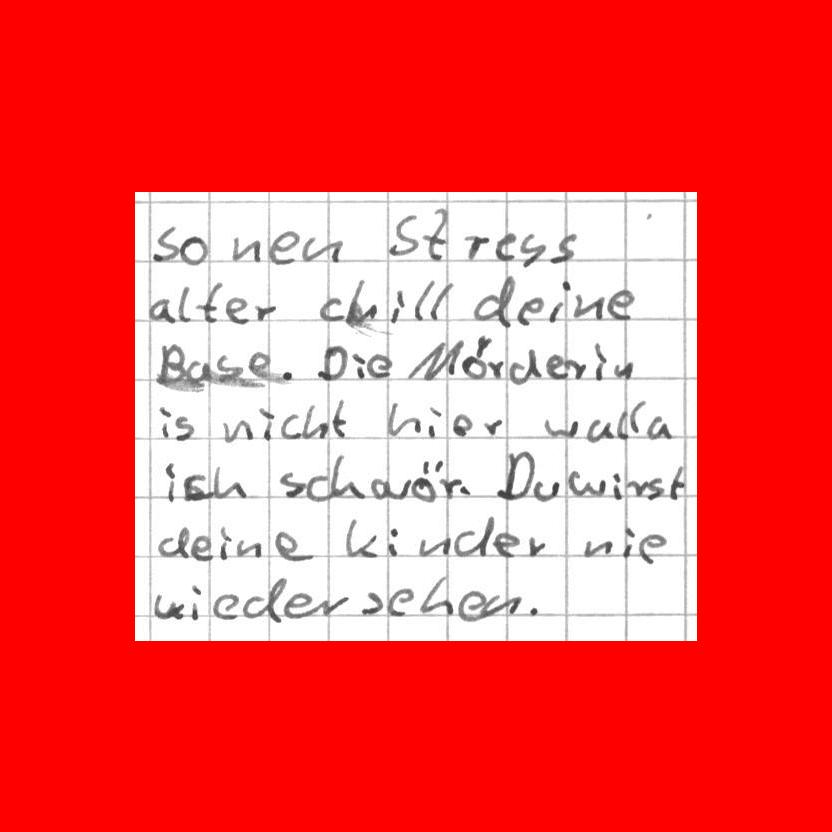Char: (405, 337, 462, 383), (473, 274, 517, 330), (243, 576, 285, 625), (345, 275, 378, 330), (496, 450, 533, 499), (454, 514, 495, 558), (385, 211, 422, 259), (330, 451, 366, 500), (384, 399, 422, 439), (210, 462, 248, 502), (344, 515, 377, 558), (156, 341, 186, 387), (411, 461, 443, 503), (419, 577, 452, 617), (425, 207, 448, 264), (157, 523, 191, 561), (462, 334, 490, 379), (315, 342, 347, 381), (509, 345, 541, 384), (303, 233, 343, 264), (427, 279, 455, 322), (273, 530, 308, 562), (479, 593, 522, 619), (269, 228, 298, 266), (548, 231, 579, 266), (150, 223, 177, 263), (569, 470, 605, 500), (547, 275, 569, 324), (412, 276, 434, 323), (519, 231, 545, 268), (243, 350, 273, 382), (543, 415, 581, 440), (607, 287, 634, 322), (200, 280, 223, 321), (179, 233, 209, 264), (638, 531, 665, 565), (154, 591, 184, 621), (457, 590, 485, 622), (230, 235, 262, 263), (370, 476, 407, 500), (585, 415, 616, 443), (220, 416, 251, 444), (312, 594, 348, 618), (284, 590, 312, 620), (387, 586, 415, 616), (213, 354, 240, 385), (417, 533, 450, 558), (303, 403, 325, 440), (575, 292, 602, 322), (463, 231, 489, 262), (225, 293, 251, 324), (329, 397, 348, 439), (211, 592, 240, 619), (493, 531, 520, 559), (176, 283, 195, 322), (278, 471, 305, 498), (183, 473, 209, 501), (188, 358, 212, 388), (517, 296, 543, 323), (366, 354, 393, 380), (647, 415, 673, 441), (626, 399, 643, 438), (496, 233, 518, 263), (359, 589, 385, 614), (534, 478, 561, 502), (591, 342, 608, 380), (162, 461, 177, 504), (582, 538, 614, 558), (319, 297, 345, 321), (306, 476, 330, 502), (174, 414, 196, 442), (216, 526, 234, 560), (258, 405, 275, 440), (191, 534, 213, 561), (669, 466, 687, 499), (388, 291, 405, 325), (149, 298, 173, 322), (188, 583, 203, 621), (426, 404, 442, 439), (280, 412, 301, 438), (158, 405, 173, 441), (621, 525, 637, 558), (253, 301, 278, 322), (236, 538, 262, 558), (441, 475, 461, 501), (646, 475, 665, 502), (482, 415, 504, 438), (451, 414, 472, 438), (386, 526, 402, 557), (350, 351, 366, 382), (545, 353, 564, 379), (625, 478, 648, 499), (527, 535, 548, 556), (564, 357, 583, 380), (486, 358, 505, 381), (611, 359, 632, 379), (616, 408, 629, 440), (610, 471, 623, 500), (524, 603, 543, 618), (277, 367, 294, 383), (641, 207, 656, 223), (459, 484, 471, 496)
